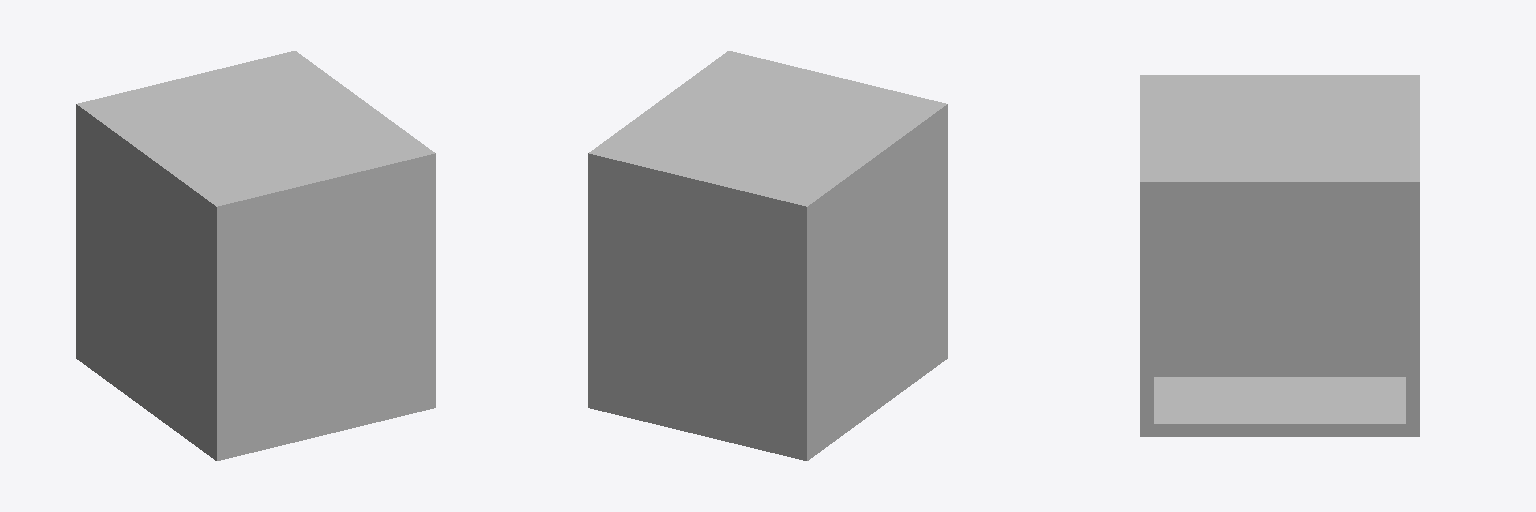
File: gearbox_cabinet.obj
The picture shows the model from 3 angles: view 1: azimuth 30°, elevation 25°; view 2: azimuth 150°, elevation 25°; view 3: azimuth 270°, elevation 25°; orthographic projection.
Parts seen in each view (by area): view 1: Cabinet_Cube; view 2: Cabinet_Cube; view 3: Cabinet_Cube.
Part boxes in pixels (bbox=[...]): Cabinet_Cube: bbox=[76, 51, 435, 460]; Cabinet_Cube: bbox=[588, 51, 947, 460]; Cabinet_Cube: bbox=[1140, 75, 1419, 436].
Bounding box in the file's own units: 0.9 × 1 × 1.